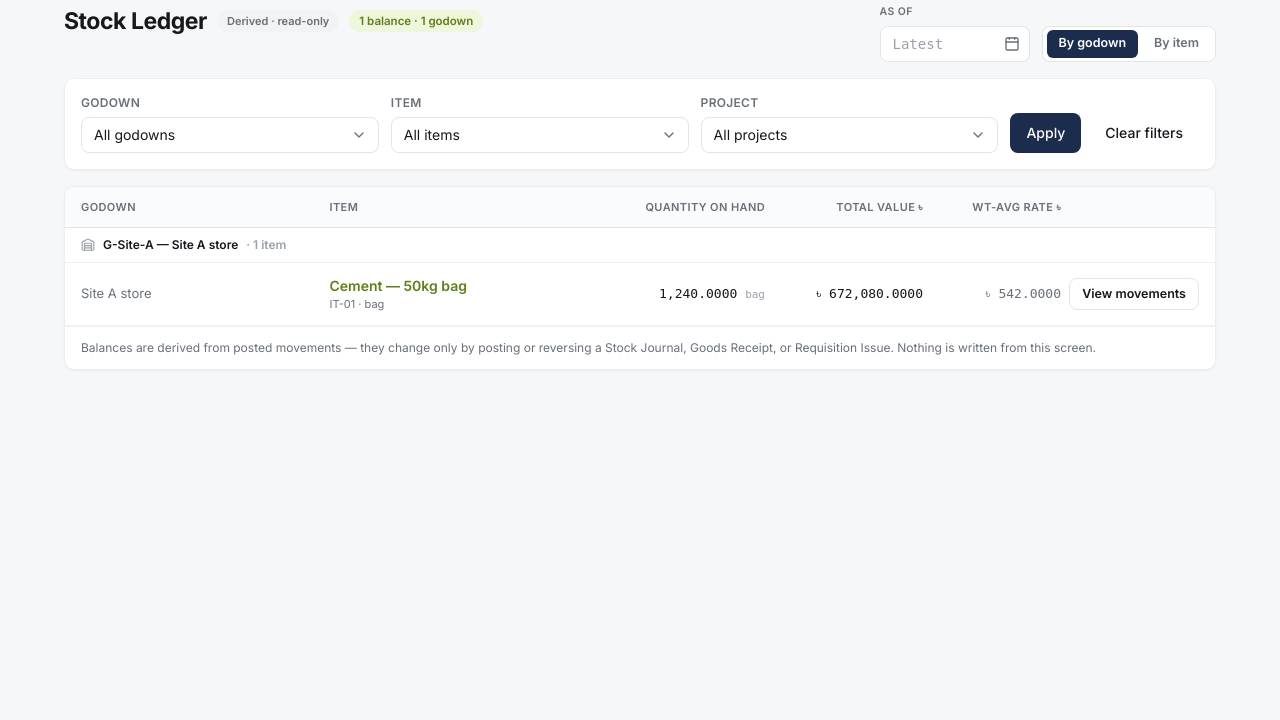
StockLedgerScreen — movement history (spec §4.B/§6) › drills through pre-filled with the row's (godown, item)
Expected: the element with test id "sl-balances" is shown, [65,187,1215,326]
Click the button with test id "sl-view" at (1134, 294), box [1069,278,1199,310]
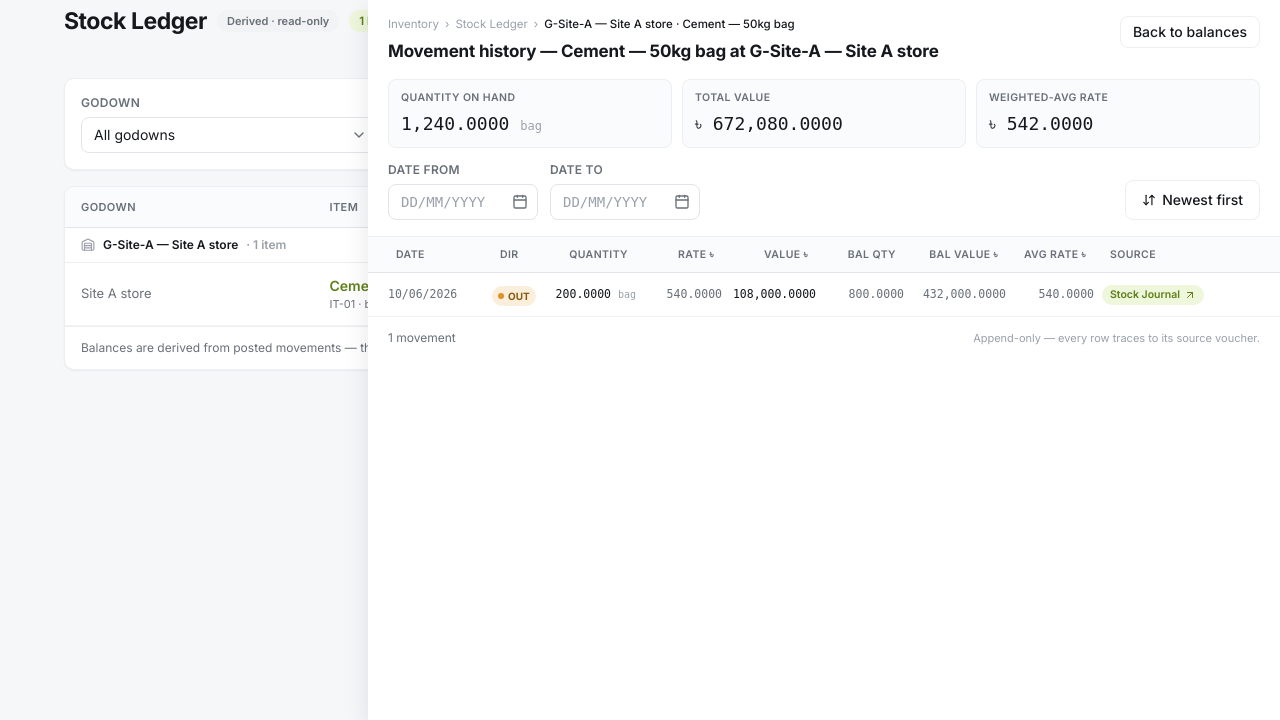
Expected: the heading with test id "sl-movement-title" reads "Movement history — Cement — 50kg bag at G-Site-A — Site A store", [388,39,939,65]
